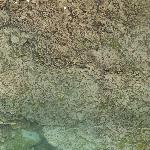dead: (2, 1, 145, 146)
